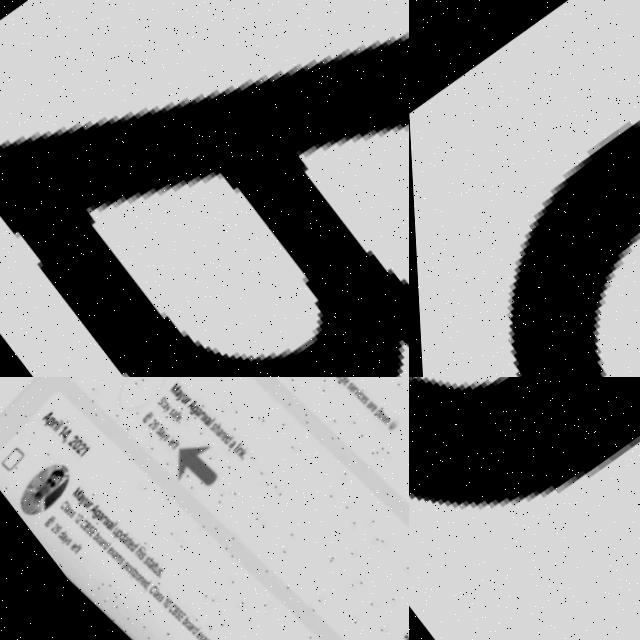0: (64, 434, 81, 450), (156, 595, 168, 607)
1: (72, 442, 87, 455), (51, 422, 65, 435), (152, 592, 165, 604), (65, 509, 77, 520)
2: (60, 431, 77, 447), (67, 438, 84, 454), (142, 414, 154, 426), (67, 512, 80, 523), (43, 520, 55, 531)
4: (52, 423, 71, 440)
9: (45, 522, 58, 535), (144, 417, 157, 428)
C: (503, 118, 640, 377)
J: (409, 377, 640, 594)
